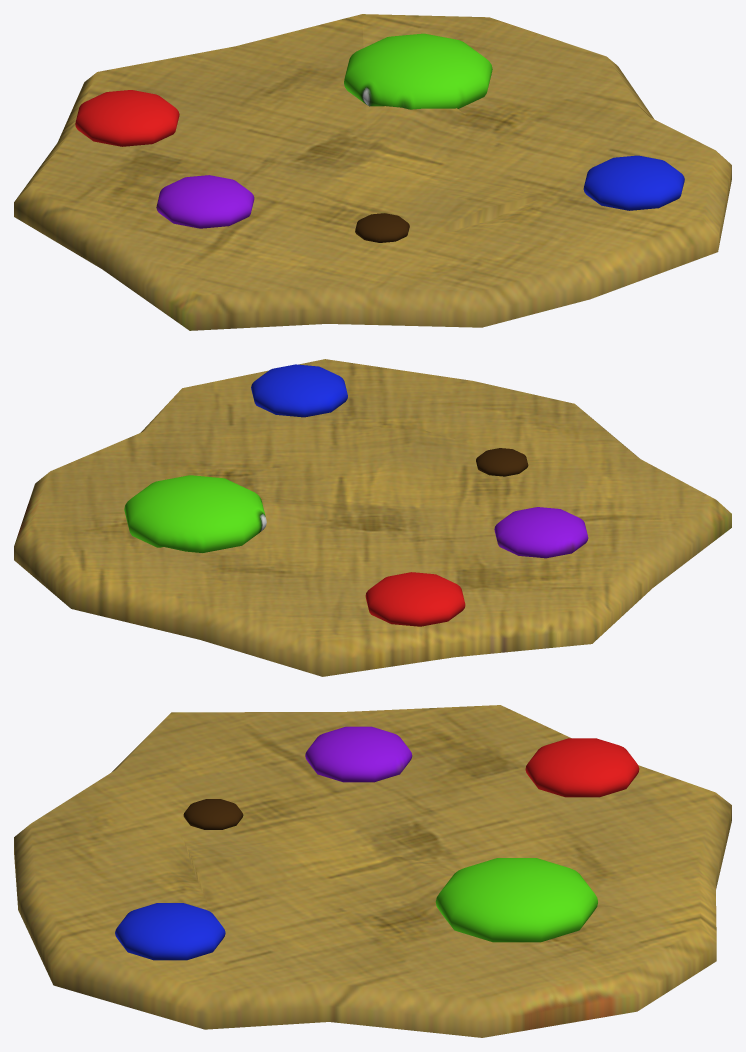
Rendered from Cookie (1).fbx.
The picture shows the model from 3 angles, top to bottom: view 1: azimuth 30°, elevation 25°; view 2: azimuth 150°, elevation 25°; view 3: azimuth 270°, elevation 25°; orthographic projection. The views are drawn at different scales.
Parts seen in each view (by area): view 1: cookie1; view 2: cookie1; view 3: cookie1.
Boxes of the visible parts, x1,y1,x2,y2 form: cookie1: (14,14,731,330); cookie1: (14,359,731,676); cookie1: (14,705,731,1037).
Bounding box in the file's own units: 106 × 11.15 × 104.
